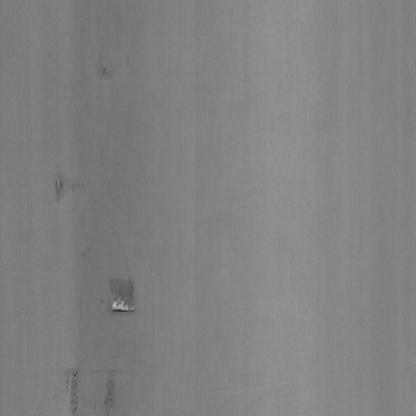rolled_pit: (106, 273, 136, 319), (64, 364, 84, 416), (101, 372, 121, 416), (48, 168, 70, 206)
